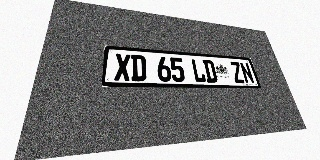5: (170, 57, 186, 82)
6: (156, 56, 172, 82)
D: (131, 54, 147, 81), (202, 60, 218, 83)
L: (190, 59, 207, 82)
N: (239, 62, 255, 83)
X: (114, 53, 131, 81)
Z: (229, 61, 245, 83)
